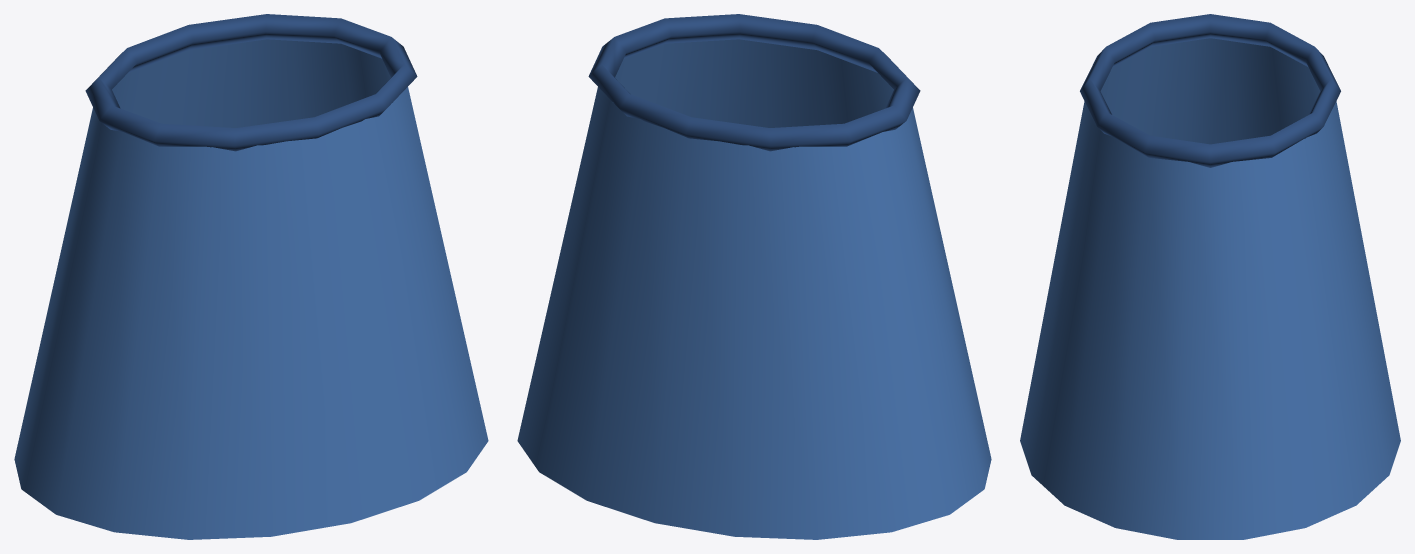
The model's file is bottom_skirt.glb.
3 views of the same model, side by side, from view 1: azimuth 30°, elevation 25°; view 2: azimuth 150°, elevation 25°; view 3: azimuth 270°, elevation 25° (orthographic). The views are drawn at different scales.
Visible parts, largest first — view 1: Body; view 2: Body; view 3: Body.
Boxes of the visible parts, x1,y1,x2,y2 form: Body: [14, 14, 488, 539]; Body: [517, 14, 991, 539]; Body: [1020, 14, 1400, 539].
Size of the model in its own units: 0.4924 by 0.419 by 0.4.
